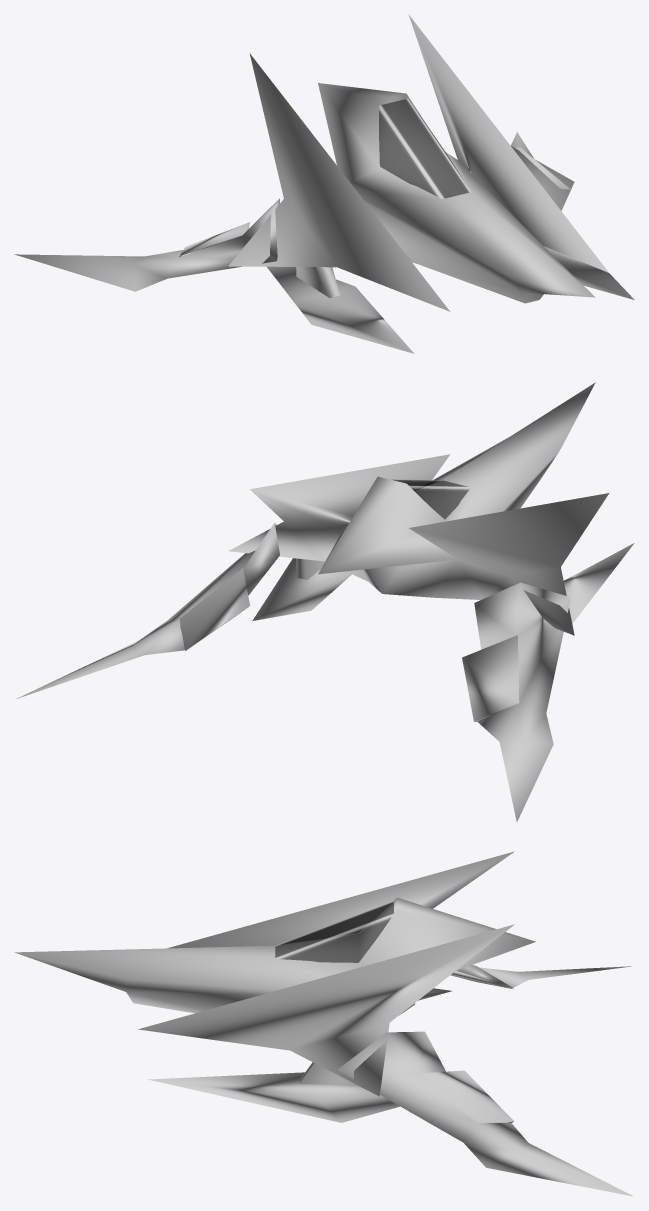
File: arwingNew50.obj
3 views of the same model, one above another, from view 1: azimuth 30°, elevation 25°; view 2: azimuth 150°, elevation 25°; view 3: azimuth 270°, elevation 25° (orthographic). The views are drawn at different scales.
Visible parts, largest first — view 1: Arwing.002; view 2: Arwing.002; view 3: Arwing.002.
Boxes of the visible parts, <box> form: Arwing.002: <box>14,14,634,353</box>; Arwing.002: <box>15,382,634,821</box>; Arwing.002: <box>14,851,634,1196</box>.
Bounding box in the file's own units: 5.48 × 2.15 × 6.24.
